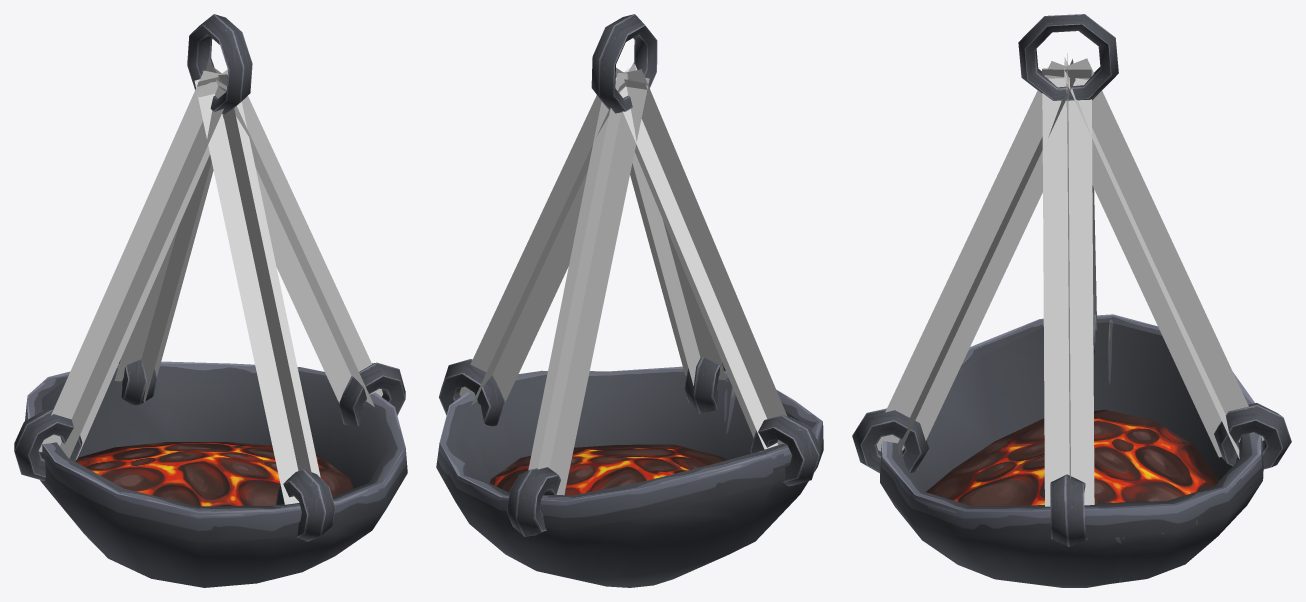
The model's file is SM_PROP_brazier_04.fbx.
3 renders of one model, left to right at view 1: azimuth 30°, elevation 25°; view 2: azimuth 150°, elevation 25°; view 3: azimuth 270°, elevation 25°, orthographic. The views are drawn at different scales.
Parts seen in each view (by area): view 1: SM_PROP_brazier_04; view 2: SM_PROP_brazier_04; view 3: SM_PROP_brazier_04.
Part boxes in pixels (x1=…): SM_PROP_brazier_04: x1=14, y1=14, x2=407, y2=587; SM_PROP_brazier_04: x1=436, y1=14, x2=823, y2=587; SM_PROP_brazier_04: x1=852, y1=14, x2=1291, y2=587.
Size of the model in its own units: 90.37 by 122 by 87.4.
